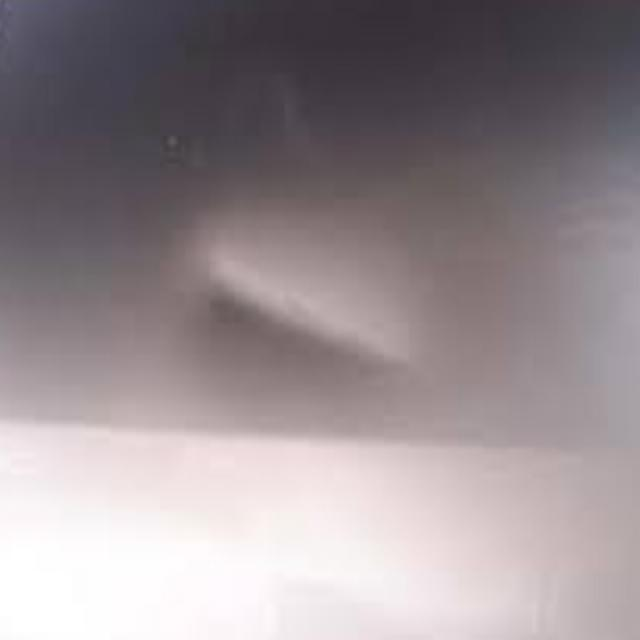dents: (165, 225, 462, 450)
